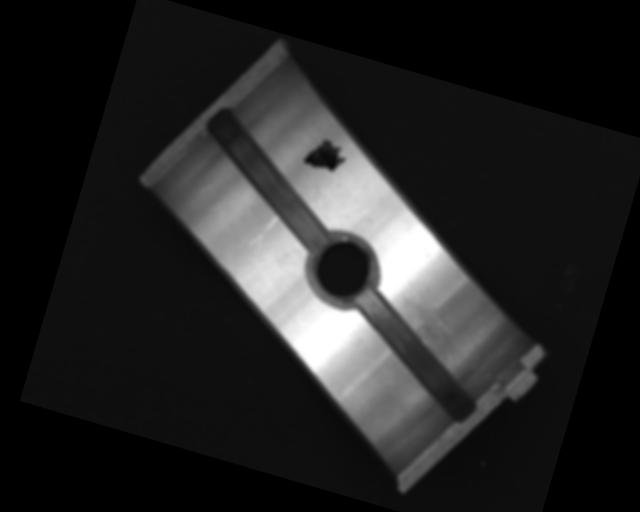blot: (302, 134, 350, 175)
gap: (183, 106, 352, 254), (332, 289, 500, 426)
hole: (299, 225, 386, 316)
nick: (246, 208, 280, 257)
scratch: (386, 291, 478, 369)
